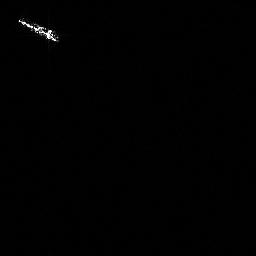ship: (16, 15, 62, 46)
